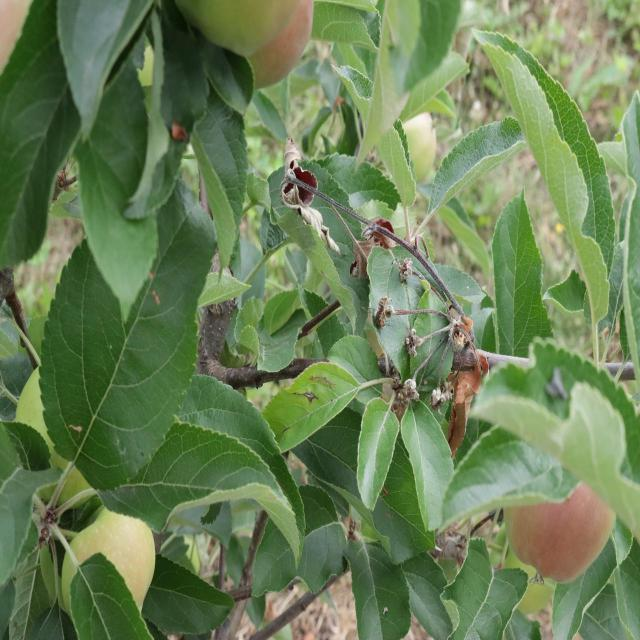-FireBlight-: (393, 297, 490, 451), (286, 148, 352, 242), (343, 213, 397, 272)
